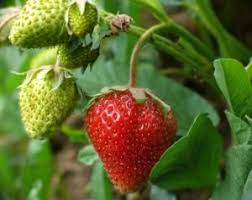ripe: (82, 83, 180, 197)
unripe: (17, 67, 77, 142), (6, 4, 63, 50), (55, 34, 104, 73), (63, 4, 103, 46)
